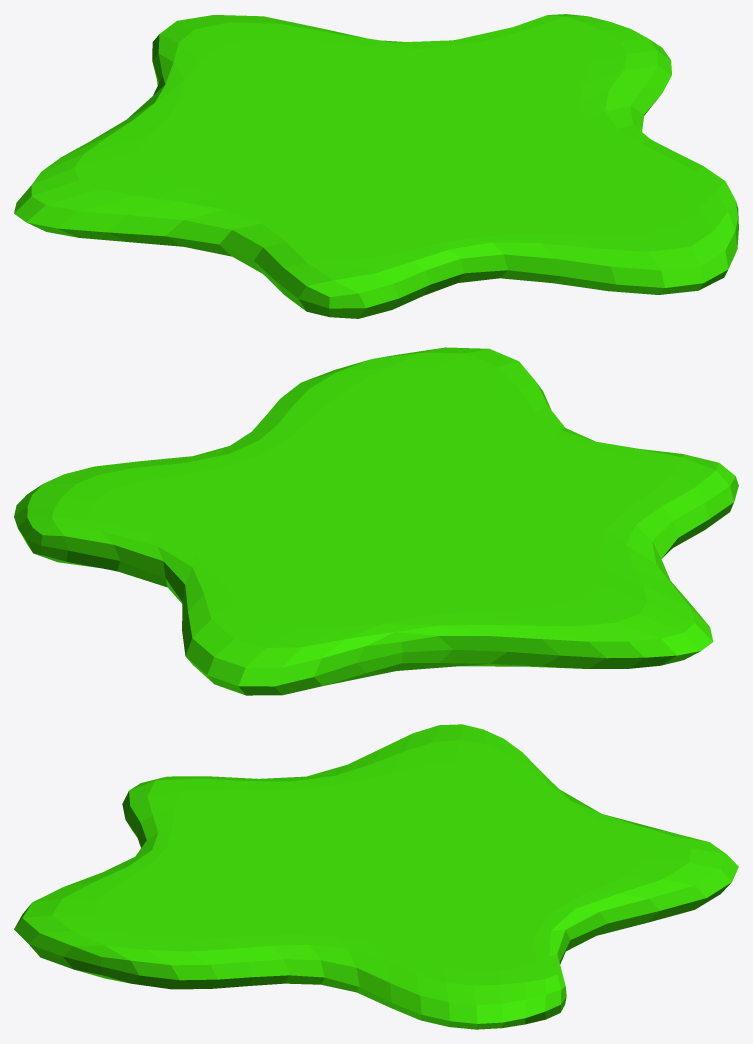
The model's file is effect spot.fbx.
3 views of the same model, one above another, from view 1: azimuth 30°, elevation 25°; view 2: azimuth 150°, elevation 25°; view 3: azimuth 270°, elevation 25° (orthographic). The views are drawn at different scales.
Visible parts, largest first — view 1: Plane.012; view 2: Plane.012; view 3: Plane.012.
Part boxes in pixels (bbox=[...]): Plane.012: bbox=[14, 14, 738, 318]; Plane.012: bbox=[14, 347, 738, 695]; Plane.012: bbox=[14, 724, 738, 1029].
Size of the model in its own units: 359 by 21 by 373.
